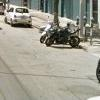Motorcycle: (35, 19, 85, 54)
